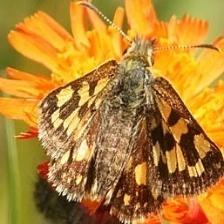butterfly: (39, 38, 224, 224)
